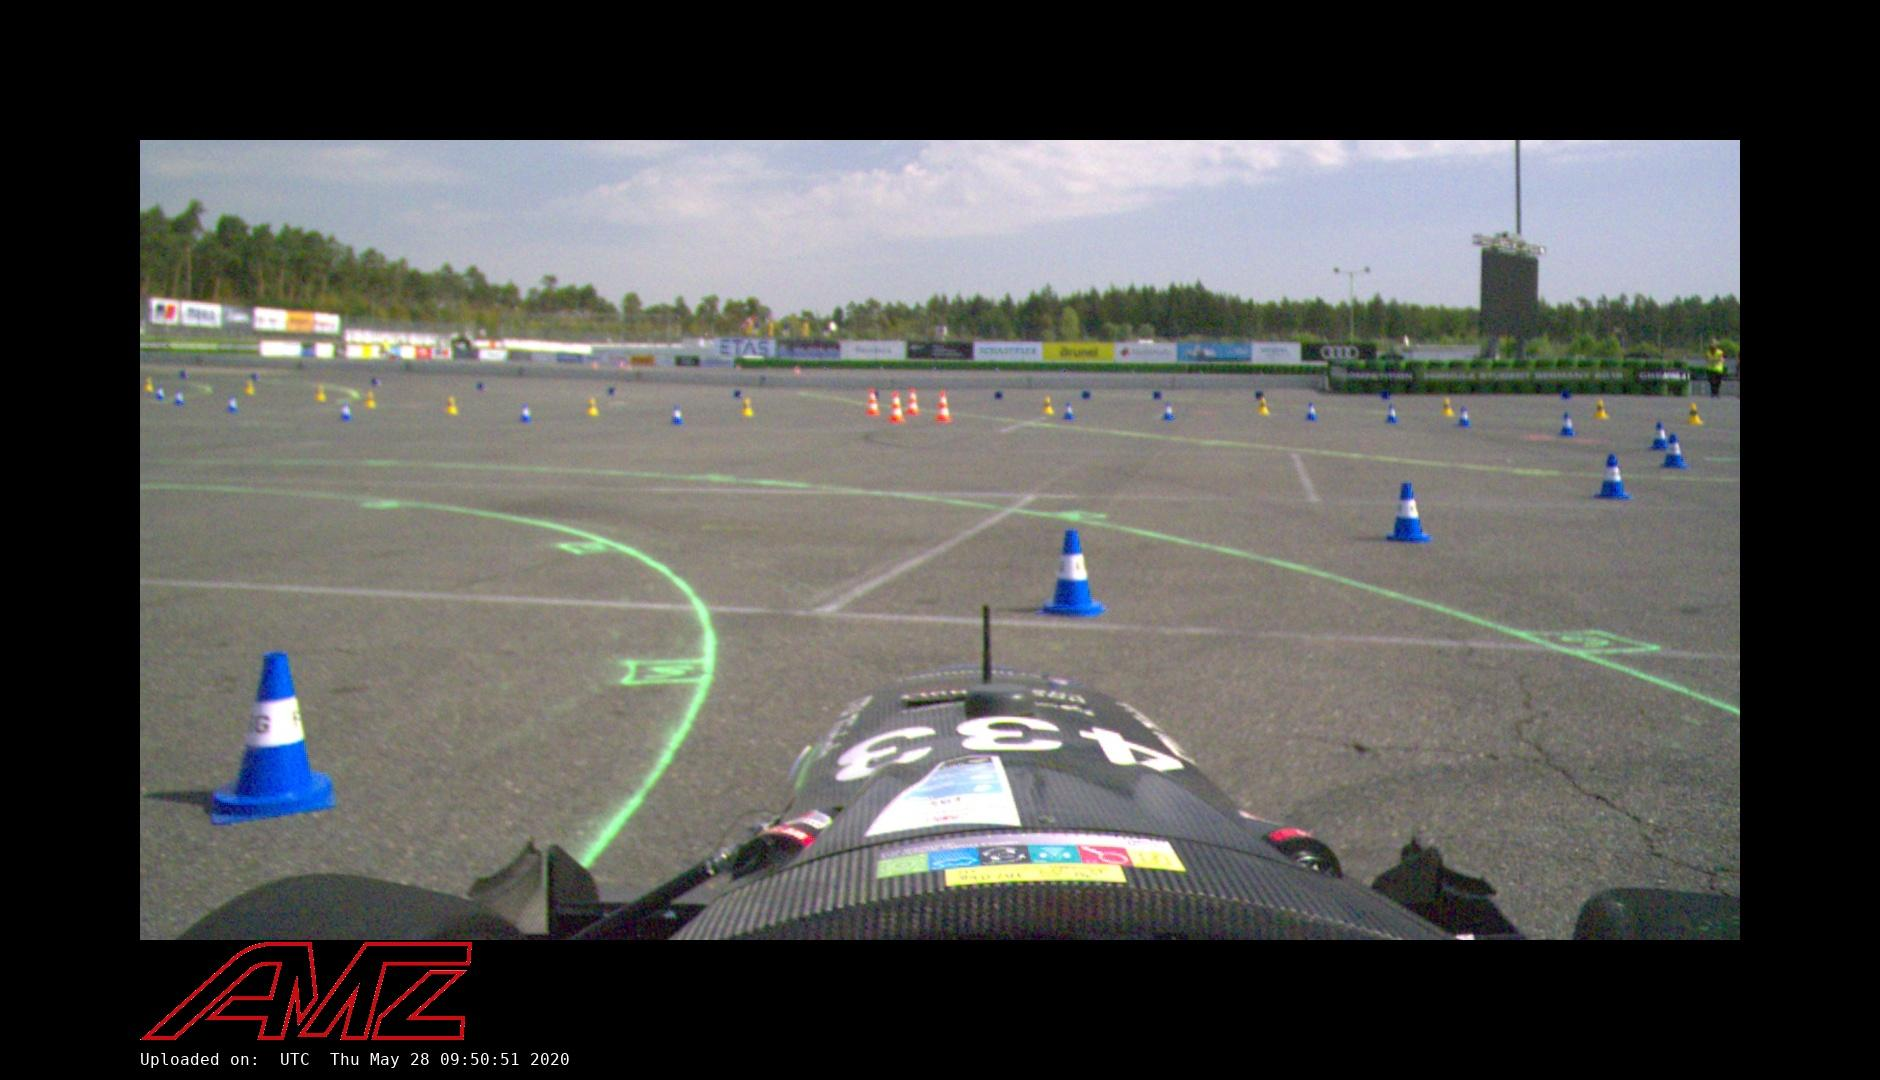blue_cone: (209, 653, 336, 825), (1039, 528, 1107, 617), (1385, 482, 1432, 544), (1594, 453, 1632, 501), (1659, 433, 1689, 470), (1648, 421, 1671, 451), (1558, 412, 1576, 437), (1456, 406, 1472, 428), (670, 404, 683, 425), (1386, 404, 1399, 424), (1305, 402, 1318, 421), (520, 403, 532, 423), (1062, 402, 1075, 420), (340, 403, 353, 421), (1163, 401, 1175, 420), (227, 395, 238, 413), (175, 389, 184, 405), (156, 385, 165, 400)
large_orange_cone: (887, 391, 906, 423), (934, 390, 952, 423), (904, 387, 920, 416), (865, 388, 881, 416)
yellow_cone: (1687, 403, 1703, 425), (1593, 399, 1609, 419), (1441, 397, 1455, 417), (741, 398, 754, 418), (587, 397, 600, 417), (446, 396, 459, 416), (1043, 397, 1055, 416), (1258, 397, 1269, 416), (316, 385, 327, 402), (366, 391, 376, 409), (143, 377, 154, 392), (245, 380, 255, 395)
